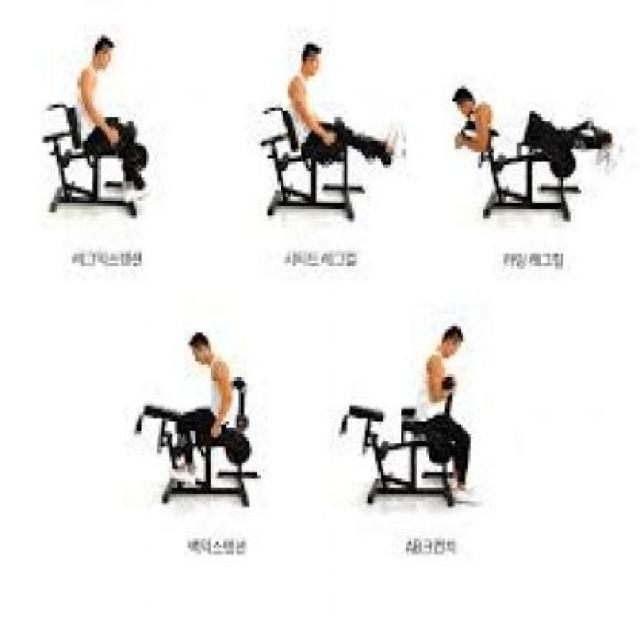reg curl machine: (435, 79, 631, 278)
